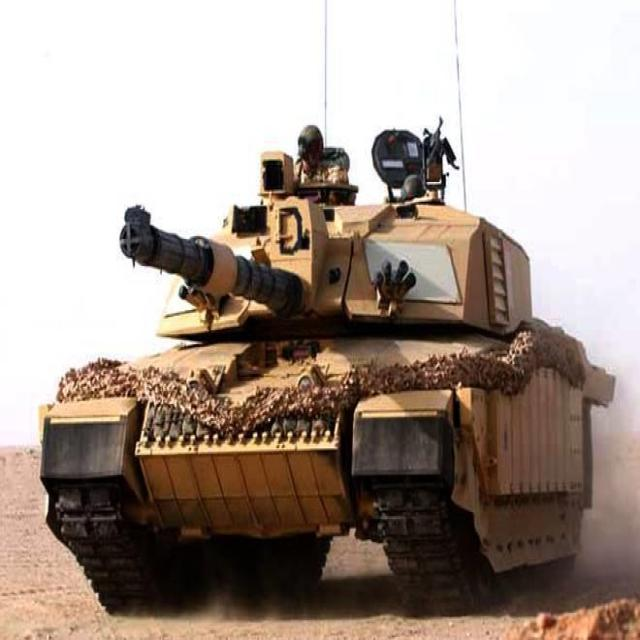Tanks: (16, 158, 614, 610)
